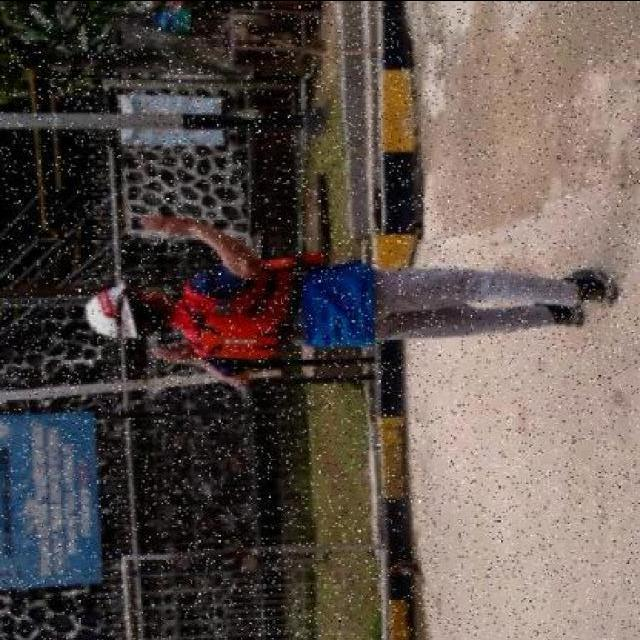boots: (558, 256, 630, 310), (527, 300, 583, 337)
helmet: (81, 278, 141, 338)
vest: (174, 260, 378, 360)
